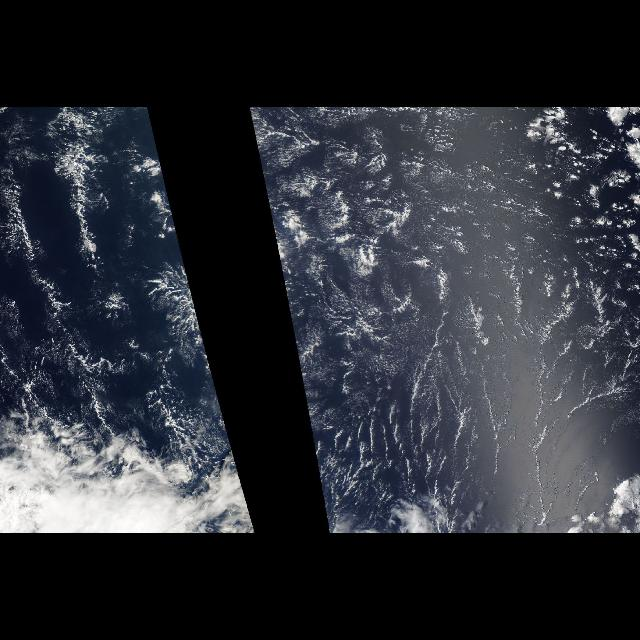Fish: (3, 110, 201, 454)
Flower: (256, 152, 444, 332)
Sugar: (270, 110, 640, 526)
